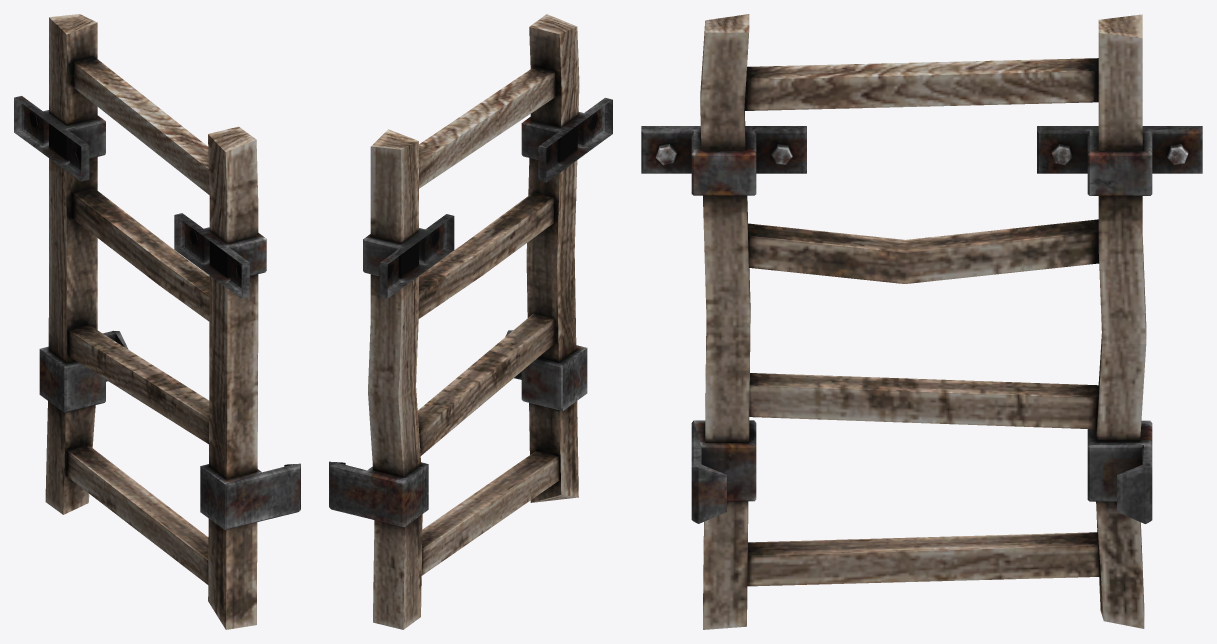
File: ladder_mount.dae
3 views of the same model, side by side, from view 1: azimuth 30°, elevation 25°; view 2: azimuth 150°, elevation 25°; view 3: azimuth 270°, elevation 25° (orthographic). The views are drawn at different scales.
Parts seen in each view (by area): view 1: ladder_moveable_mount; view 2: ladder_moveable_mount; view 3: ladder_moveable_mount.
Boxes of the visible parts, x1,y1,x2,y2 form: ladder_moveable_mount: (14, 14, 300, 629); ladder_moveable_mount: (329, 14, 612, 629); ladder_moveable_mount: (641, 14, 1202, 629).
Size of the model in its own units: 0.2673 by 1.28 by 1.5.
1 material, 1 textured.
